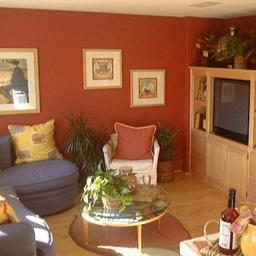Matera: (154, 130, 176, 185)
